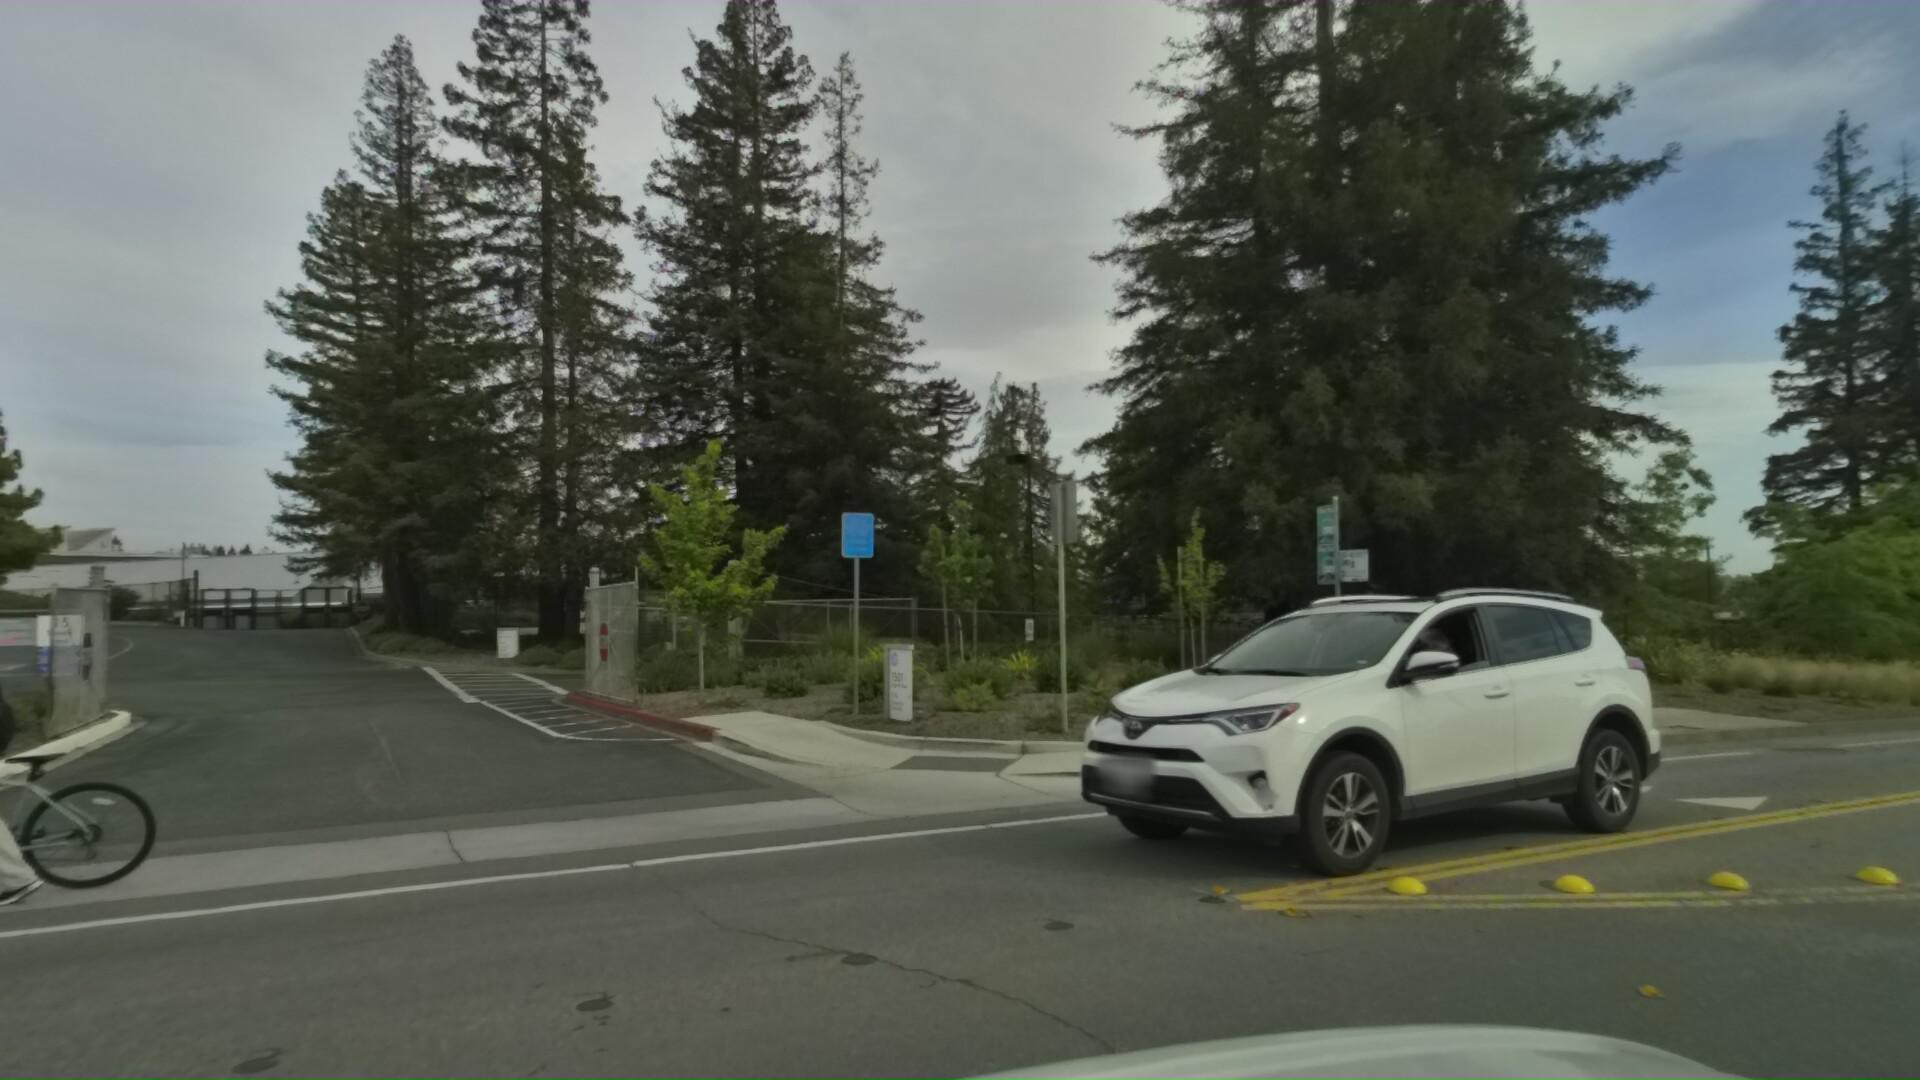car: (884, 574, 1629, 984)
